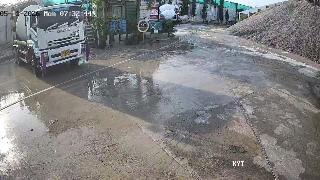cement_mixer_truck: (8, 3, 89, 74), (157, 10, 177, 24), (159, 4, 180, 10)
